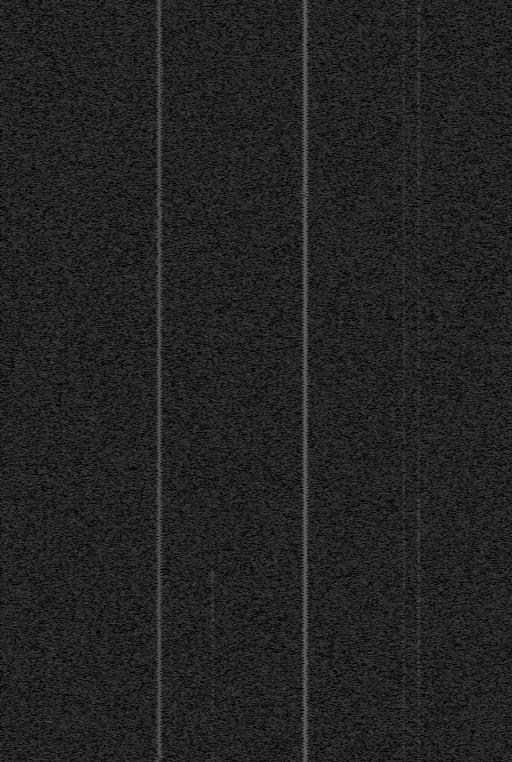wv_am: (402, 0, 406, 762)
wv_lsb: (210, 643, 215, 675), (210, 676, 215, 707), (210, 560, 215, 588), (210, 735, 215, 762), (210, 595, 215, 622), (210, 623, 215, 642), (210, 724, 215, 734), (210, 708, 215, 716), (210, 717, 215, 723), (210, 589, 215, 592), (211, 555, 214, 559)
wv_usb: (416, 30, 421, 123), (416, 295, 421, 385), (416, 124, 421, 213), (416, 614, 421, 684), (416, 386, 421, 440), (416, 444, 421, 484), (416, 685, 421, 717), (416, 584, 421, 613), (416, 734, 421, 762), (416, 4, 421, 29), (416, 222, 421, 244), (416, 543, 421, 563), (416, 564, 421, 583), (416, 508, 421, 527), (416, 528, 421, 542), (416, 494, 421, 507), (416, 284, 421, 294), (416, 274, 421, 283), (416, 485, 421, 493), (416, 253, 421, 261), (416, 724, 421, 731), (416, 245, 421, 252), (417, 262, 421, 270), (416, 718, 421, 723), (416, 216, 421, 221)
wv_wbfm: (154, 0, 165, 762), (300, 0, 311, 762)
